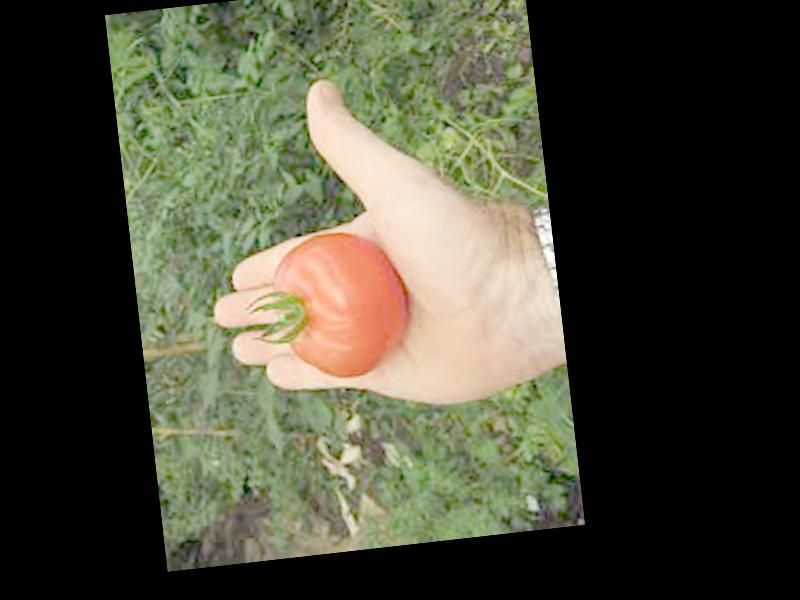Tomato: (269, 224, 413, 386)
